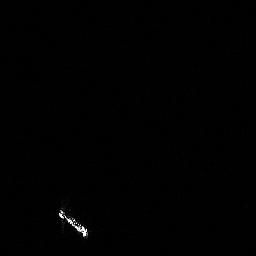ship: (55, 205, 92, 242)
